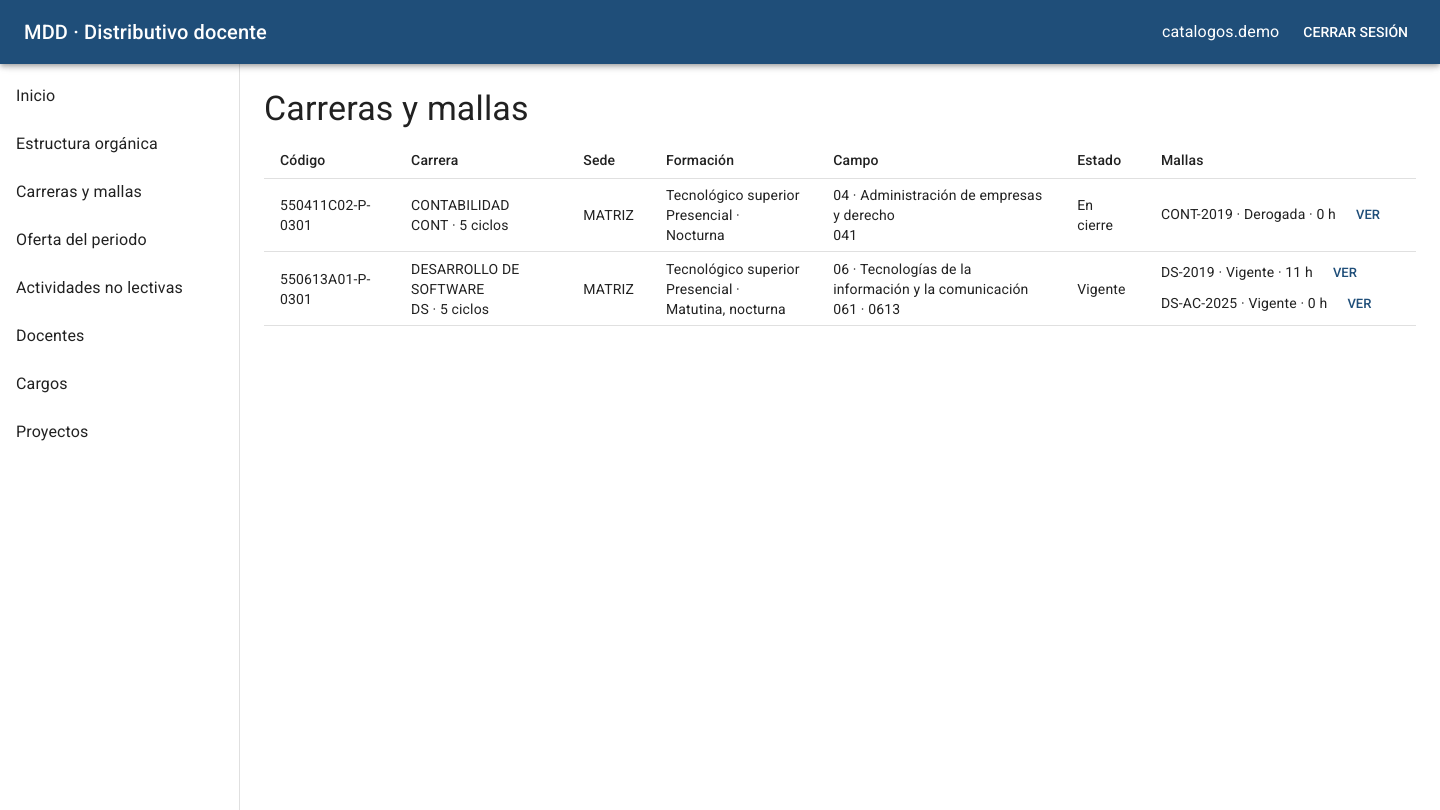
Test: Carreras y mallas › sin escritura no ofrece acciones
Click the button with aria-label "Ver la malla DS-2019" at point(1345, 273), box [1313,258,1377,289]
(page scrolled)
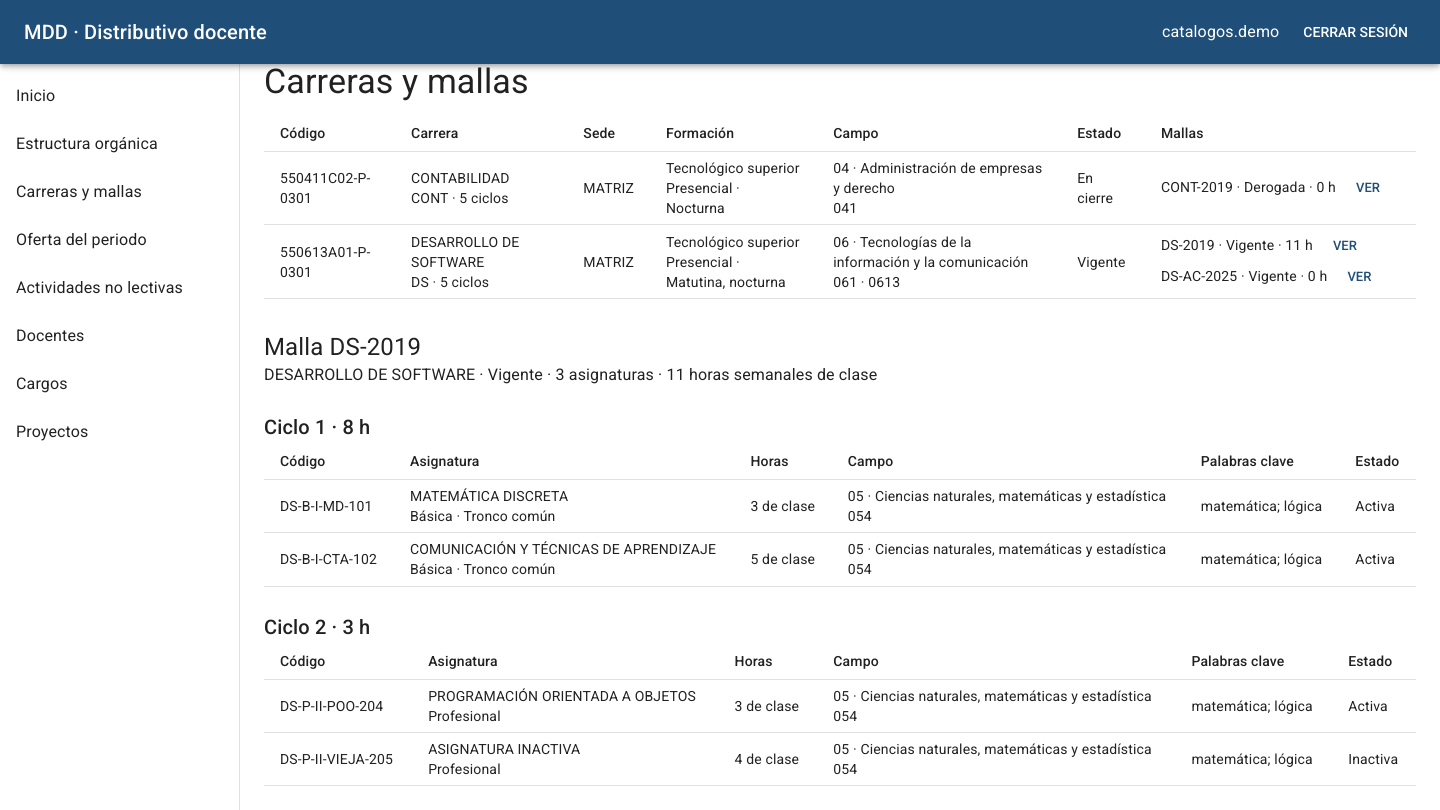
Check: the element "Malla DS-2019" is shown, box [264,331,1416,786]
